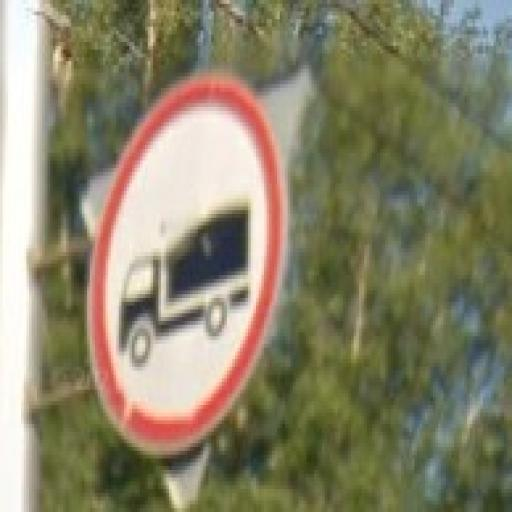traffic_sign: (85, 78, 286, 460)
